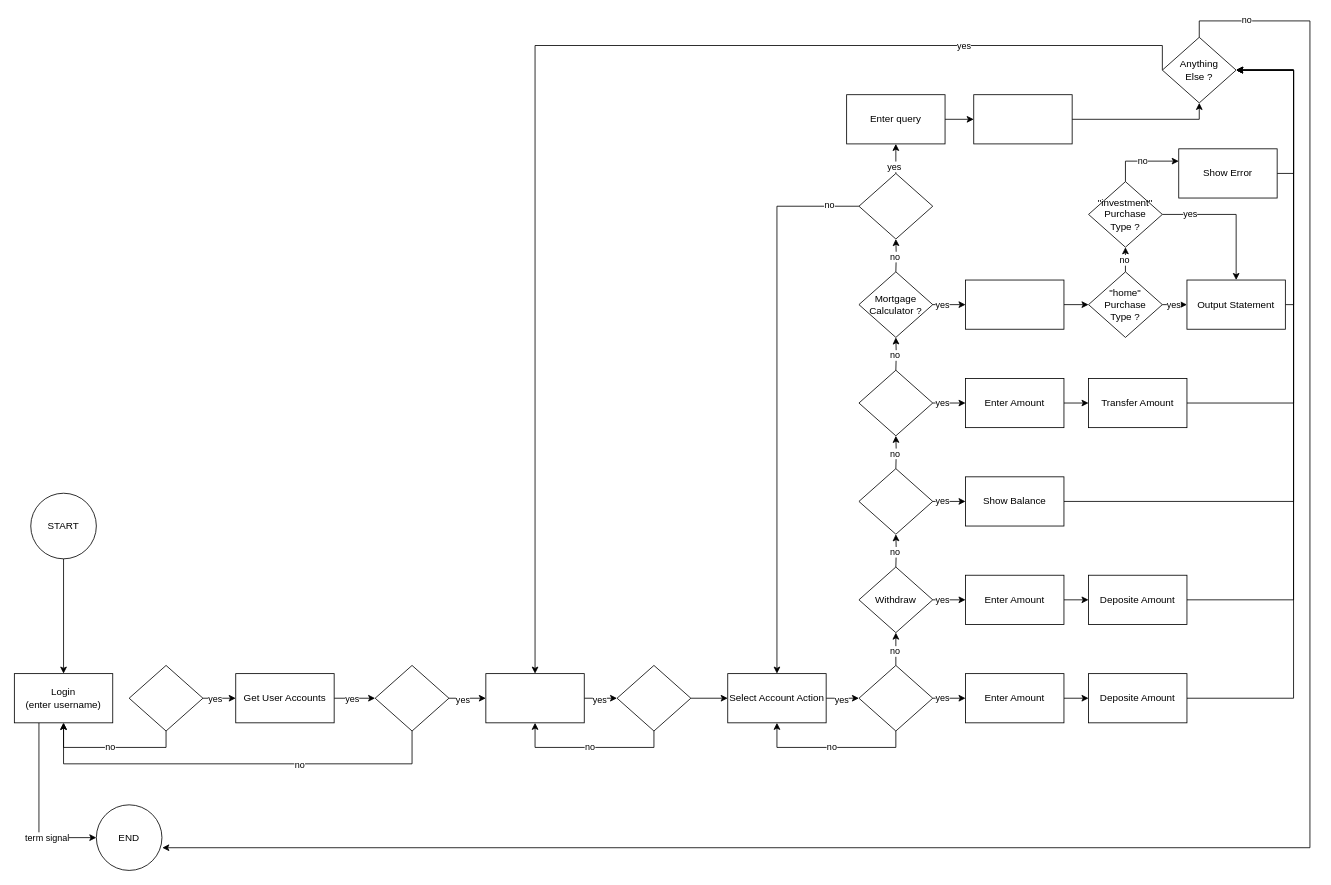
This 1331x885 diagram has some shape labels left out. Here are the shapes that lost their labels. From the top down, the centre of each, then its label:
[1022,119]: Show Results
[895,206]: Entertainment ?
[1014,304]: Enter income, dependants & purchase type
[895,402]: Transfer
[895,501]: Balance
[165,698]: Valid User ?
[411,698]: Has Accounts ?
[534,698]: Select Account
[653,698]: Valid Account ? or Exit
[895,698]: Deposite ?
